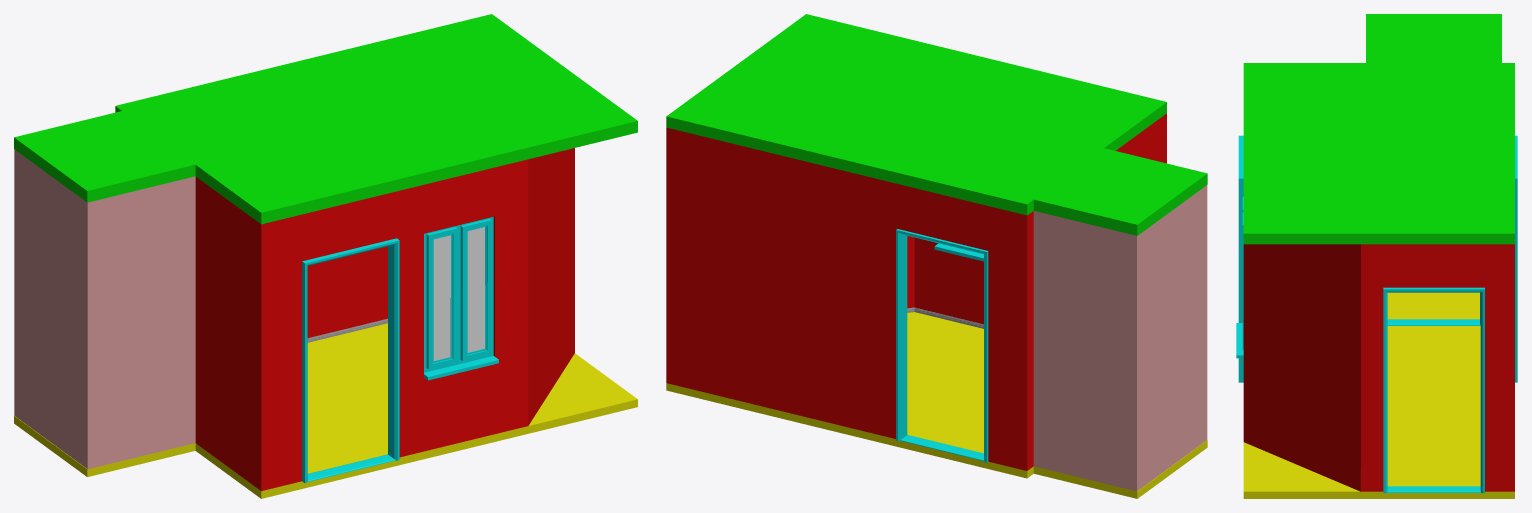
The model's file is FloorPlan511_physics.fbx.
3 renders of one model, left to right at view 1: azimuth 30°, elevation 25°; view 2: azimuth 150°, elevation 25°; view 3: azimuth 270°, elevation 25°, orthographic. The views are drawn at different scales.
Parts seen in each view (by area): view 1: FP511:Walls_1, FP511:Ceiling_1, FP511:Walls_2, FP511:Floor_1, FP511:Ceiling_2, FP511:WindowFrame_1, FP511:DoorFrame_1, FP511:WindowPane_1, FP511:Floor_2, FP511:Floorboard_1; view 2: FP511:Walls_1, FP511:Ceiling_1, FP511:Walls_2, FP511:Floor_1, FP511:Ceiling_2, FP511:DoorFrame_3, FP511:Floor_2, FP511:Floorboard_3; view 3: FP511:Ceiling_1, FP511:Walls_1, FP511:Floor_1, FP511:Ceiling_2, FP511:DoorFrame_2, FP511:Floor_2, FP511:DoorFrame_1, FP511:DoorFrame_3, FP511:Floorboard_2, FP511:Floorboard_4, FP511:WindowFrame_1.
Part boxes in pixels (x1,y1,x2,y2): FP511:Walls_1: [195, 148, 574, 490]; FP511:Ceiling_1: [115, 14, 637, 224]; FP511:Walls_2: [14, 149, 195, 469]; FP511:Floor_1: [195, 323, 637, 498]; FP511:Ceiling_2: [14, 111, 195, 202]; FP511:WindowFrame_1: [424, 217, 498, 380]; FP511:DoorFrame_1: [302, 238, 399, 483]; FP511:WindowPane_1: [433, 227, 484, 360]; FP511:Floor_2: [14, 415, 195, 476]; FP511:Floorboard_1: [307, 454, 395, 481]; FP511:Walls_1: [666, 113, 1166, 470]; FP511:Ceiling_1: [666, 14, 1166, 215]; FP511:Walls_2: [1033, 185, 1207, 491]; FP511:Floor_1: [666, 312, 1033, 478]; FP511:Ceiling_2: [1033, 148, 1207, 235]; FP511:DoorFrame_3: [896, 229, 988, 462]; FP511:Floor_2: [1033, 440, 1207, 498]; FP511:Floorboard_3: [900, 435, 983, 461]; FP511:Ceiling_1: [1243, 63, 1514, 244]; FP511:Walls_1: [1243, 244, 1514, 491]; FP511:Floor_1: [1243, 326, 1514, 498]; FP511:Ceiling_2: [1366, 14, 1501, 62]; FP511:DoorFrame_2: [1383, 287, 1484, 493]; FP511:Floor_2: [1387, 292, 1479, 319]; FP511:DoorFrame_1: [1238, 135, 1243, 382]; FP511:DoorFrame_3: [1515, 135, 1517, 382]; FP511:Floorboard_2: [1387, 486, 1480, 492]; FP511:Floorboard_4: [1387, 319, 1480, 325]; FP511:WindowFrame_1: [1236, 196, 1243, 358].
Size of the model in its own units: 479 by 268 by 258.
